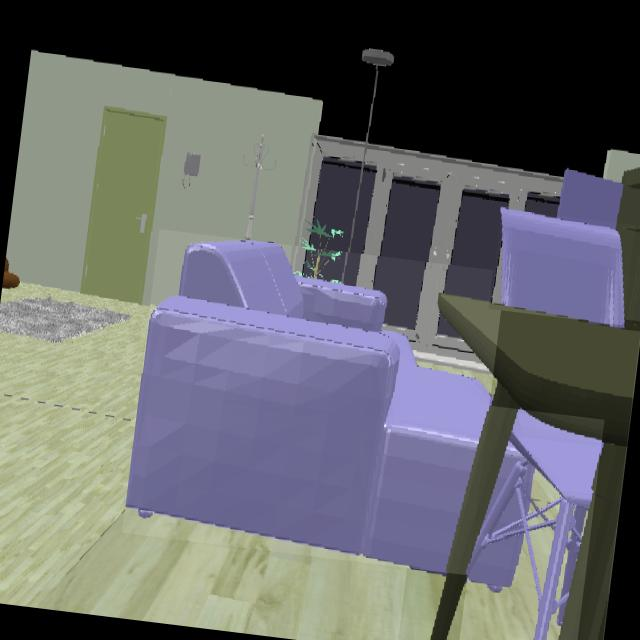chair: (468, 410, 601, 640), (502, 209, 623, 325)
sofa: (126, 244, 489, 571), (470, 540, 520, 587)
table: (431, 297, 640, 640)
